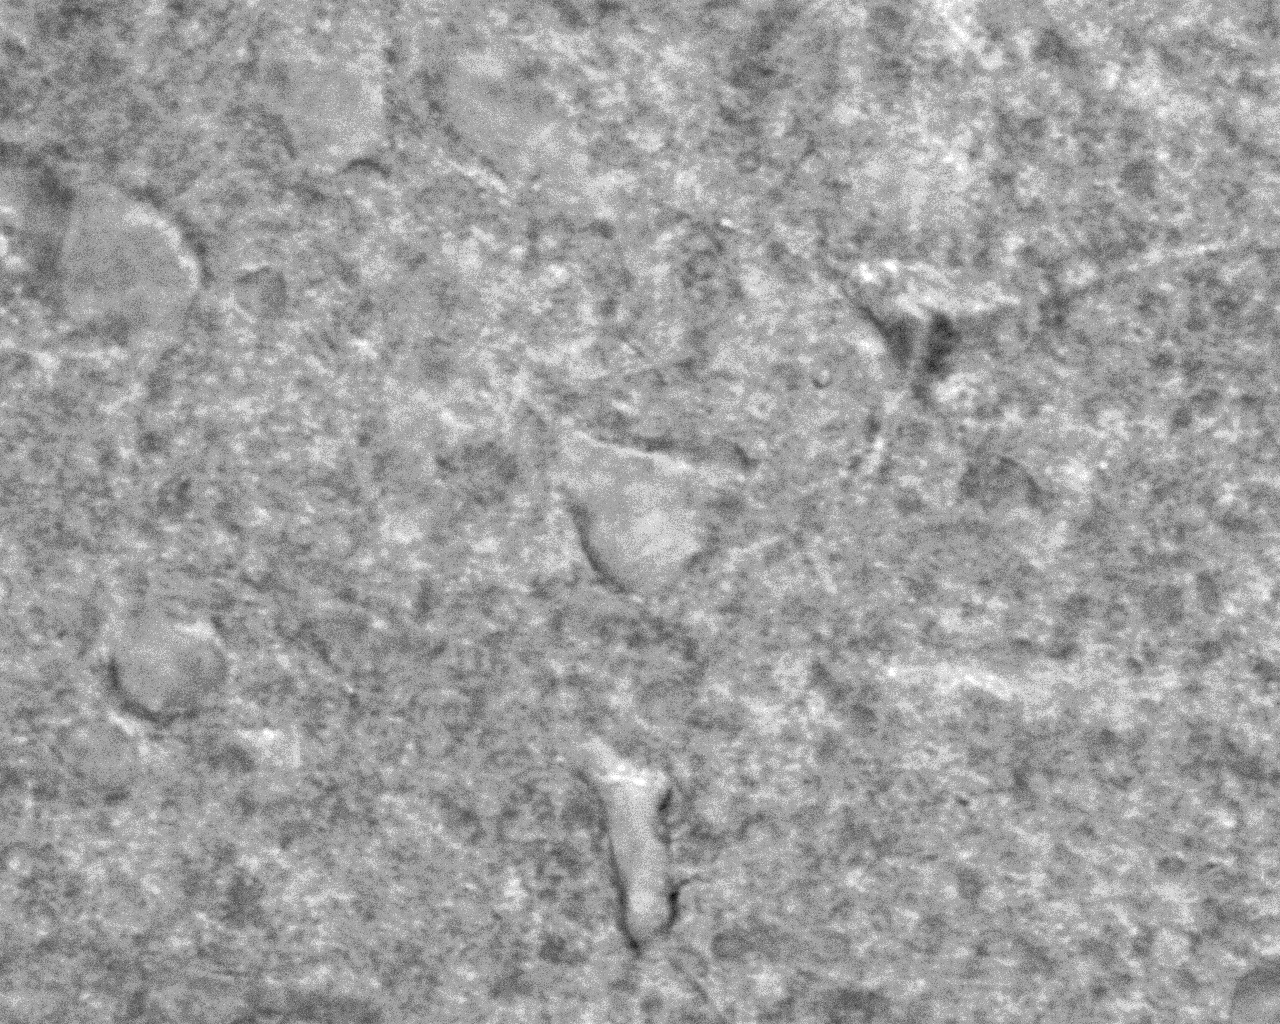neuron: (536, 403, 752, 614), (26, 172, 214, 368)
